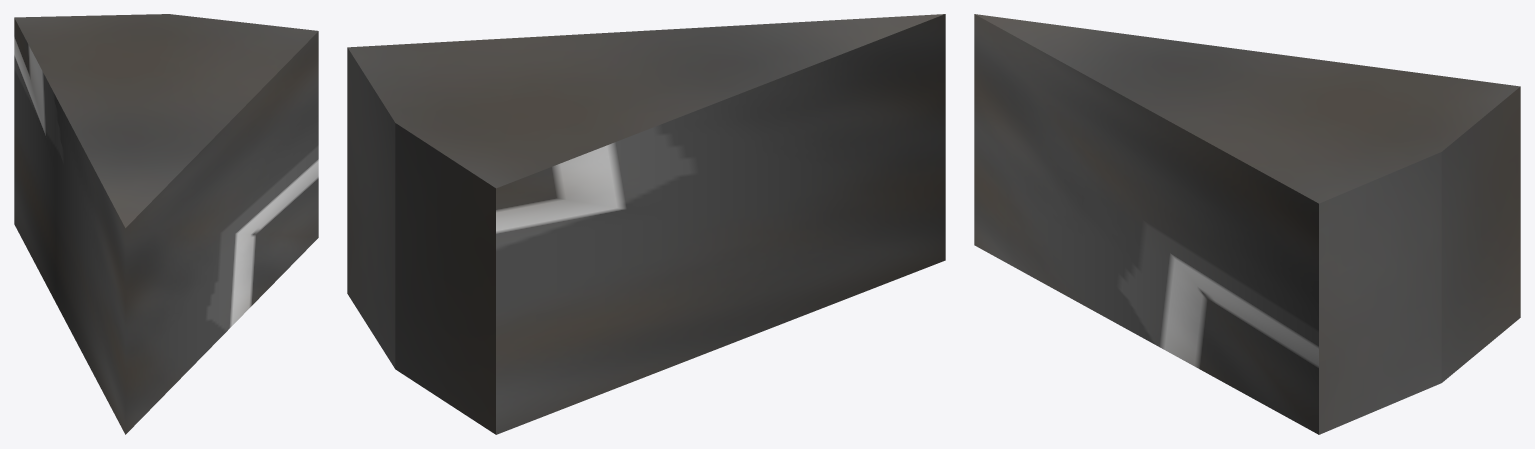
File: ishi_01_7_2.fbx
3 views of the same model, side by side, from view 1: azimuth 30°, elevation 25°; view 2: azimuth 150°, elevation 25°; view 3: azimuth 270°, elevation 25° (orthographic). The views are drawn at different scales.
Parts seen in each view (by area): view 1: polySurface5; view 2: polySurface5; view 3: polySurface5.
Boxes of the visible parts, x1,y1,x2,y2 form: polySurface5: (14,14,318,434); polySurface5: (347,14,945,434); polySurface5: (974,14,1520,434).
Bounding box in the file's own units: 8.19 × 4.66 × 9.97.
1 material, 1 textured.
